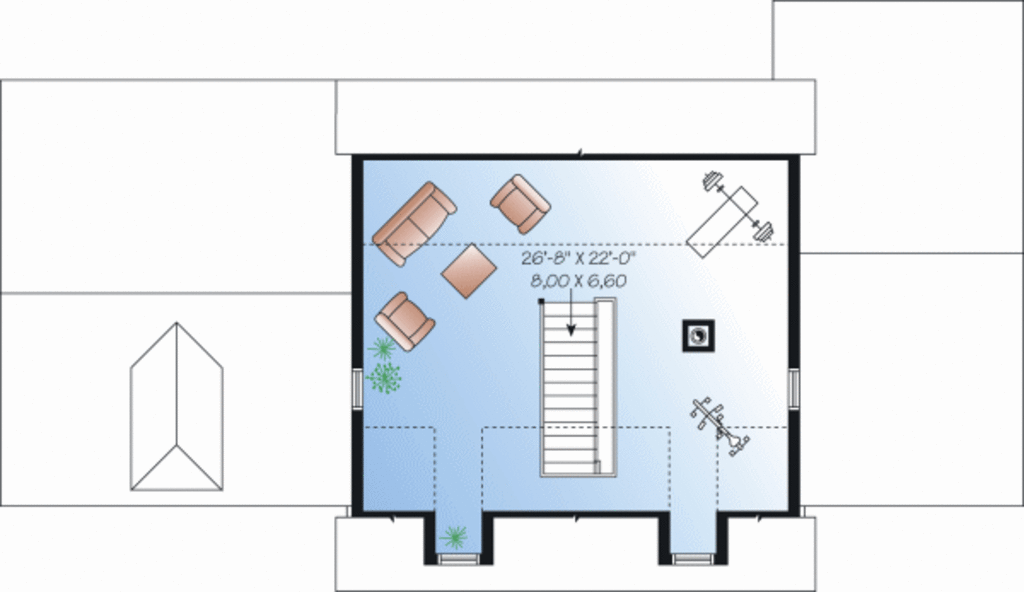large_sofa: (369, 170, 457, 268)
small_sofa: (370, 291, 444, 354), (368, 289, 442, 352), (489, 171, 552, 244)
stairs: (537, 297, 629, 475)
window: (441, 552, 489, 566), (664, 555, 718, 566), (787, 369, 800, 413), (353, 369, 363, 407)
